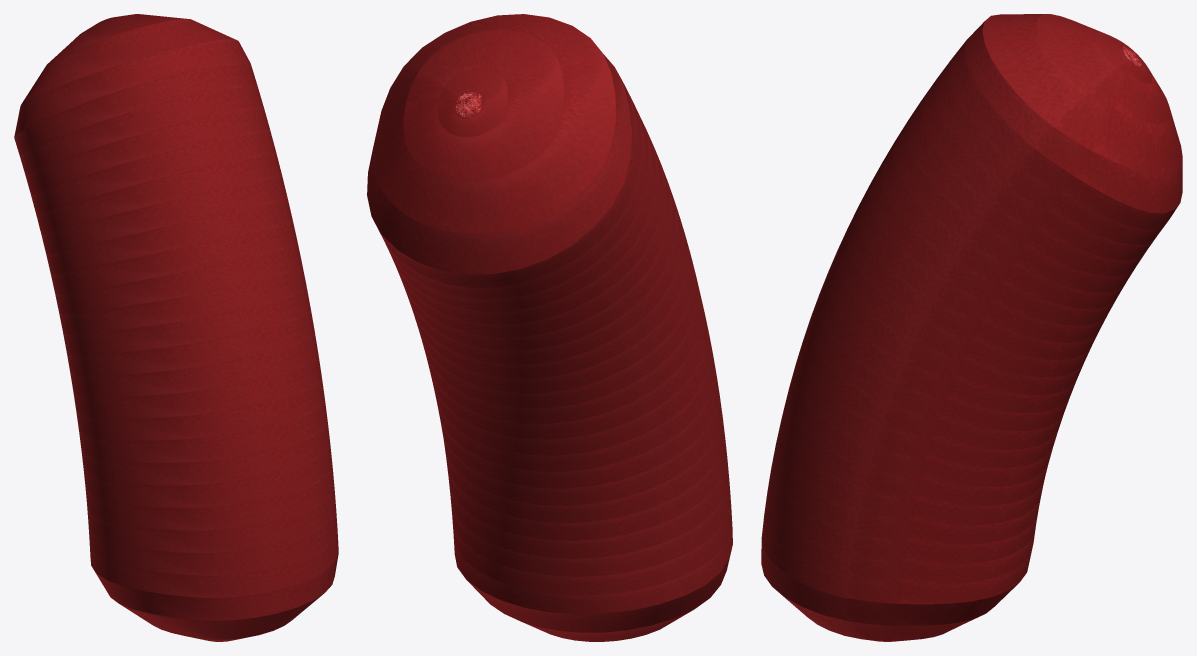
File: sucukV2.fbx
3 renders of one model, left to right at view 1: azimuth 30°, elevation 25°; view 2: azimuth 150°, elevation 25°; view 3: azimuth 270°, elevation 25°, orthographic. The views are drawn at different scales.
Visible parts, largest first — view 1: Cylinder.001; view 2: Cylinder.001; view 3: Cylinder.001.
Boxes of the visible parts, bbox=[...] form: Cylinder.001: bbox=[14, 14, 338, 641]; Cylinder.001: bbox=[367, 14, 732, 641]; Cylinder.001: bbox=[761, 14, 1182, 641].
Size of the model in its own units: 3.8 by 9.77 by 6.12.
